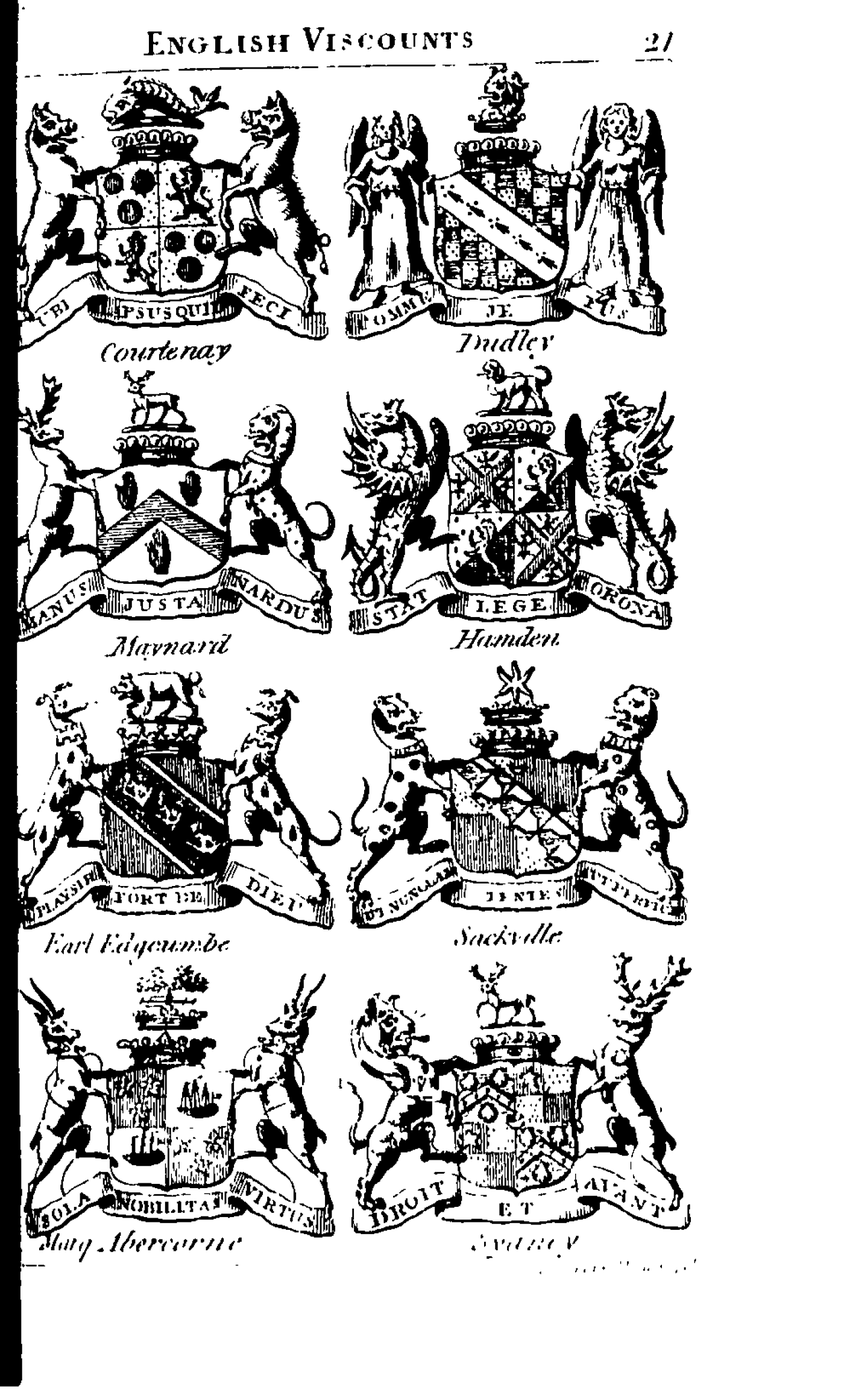coat_of_arms: (339, 955, 711, 1253), (339, 657, 691, 954), (328, 362, 673, 659), (18, 958, 344, 1259), (336, 68, 664, 366), (18, 656, 335, 961), (17, 74, 338, 367), (18, 365, 339, 656)
